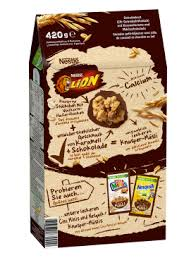cereals: (29, 9, 167, 248)
